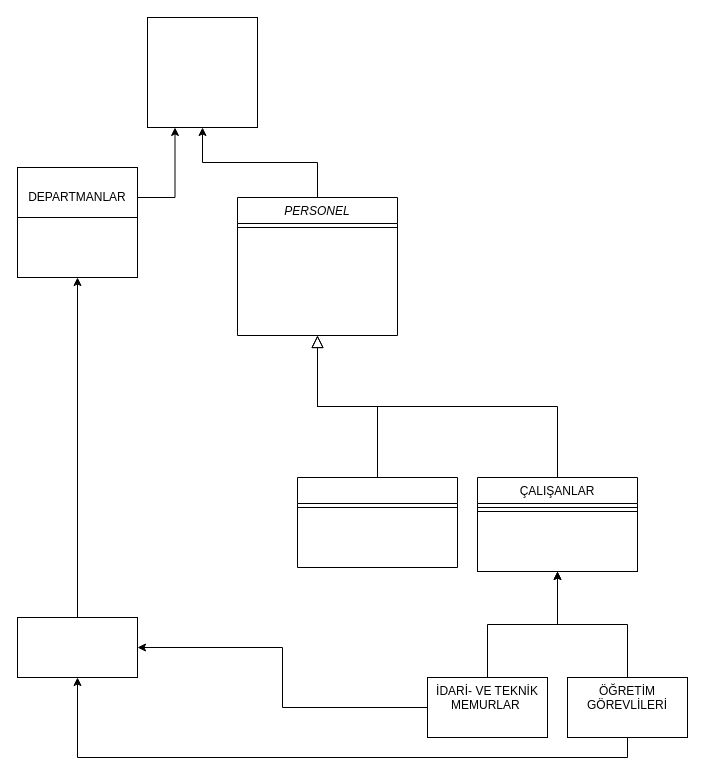
Some shapes in this 705 by 783 pixel diagram are drawn without their labels. Each missing label, with the centre of its shape:
ÇALIŞMA OFİSLERİ: pixel 77 647
ÖĞRENCİLER: pixel 377 522
ÜNİVERSİTE: pixel 202 72
